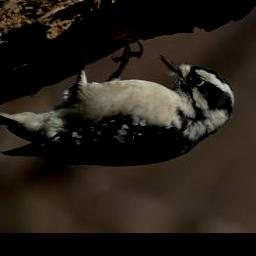Woodpecker: (0, 40, 234, 166)
